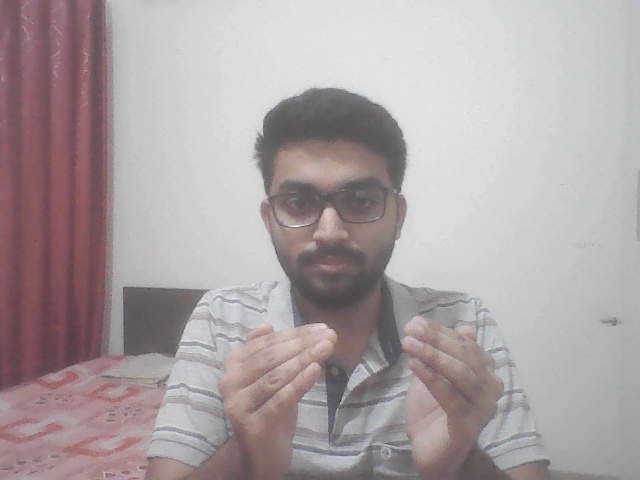small: (197, 306, 515, 478)
